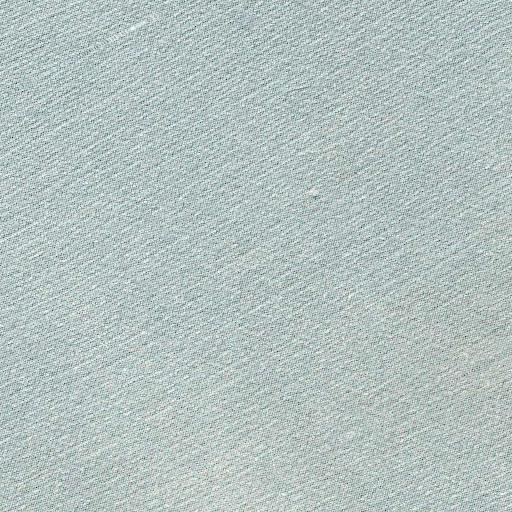knot: (303, 180, 334, 211)
